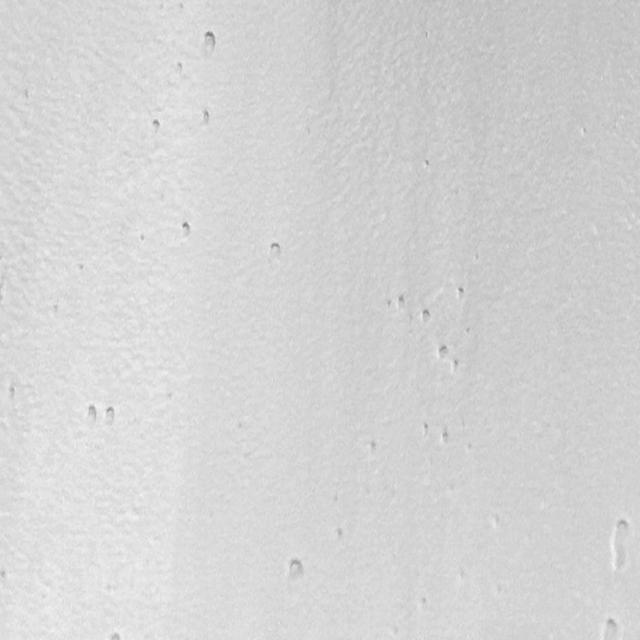pin holes: (607, 515, 636, 576), (280, 556, 305, 587), (262, 241, 284, 269), (80, 400, 100, 430), (200, 30, 220, 59), (600, 616, 624, 640), (174, 218, 194, 240), (362, 438, 381, 461), (102, 403, 117, 431), (2, 384, 18, 408), (146, 118, 163, 139), (194, 109, 212, 128), (415, 306, 432, 326), (433, 343, 449, 362), (436, 430, 451, 449), (446, 358, 460, 377), (393, 293, 407, 311), (415, 593, 428, 612), (330, 525, 344, 542), (419, 420, 431, 438), (104, 628, 123, 639), (453, 287, 466, 303), (174, 58, 186, 75), (48, 306, 59, 324), (132, 232, 146, 246), (418, 158, 431, 173), (464, 442, 475, 456), (463, 326, 473, 339), (78, 262, 85, 274)
